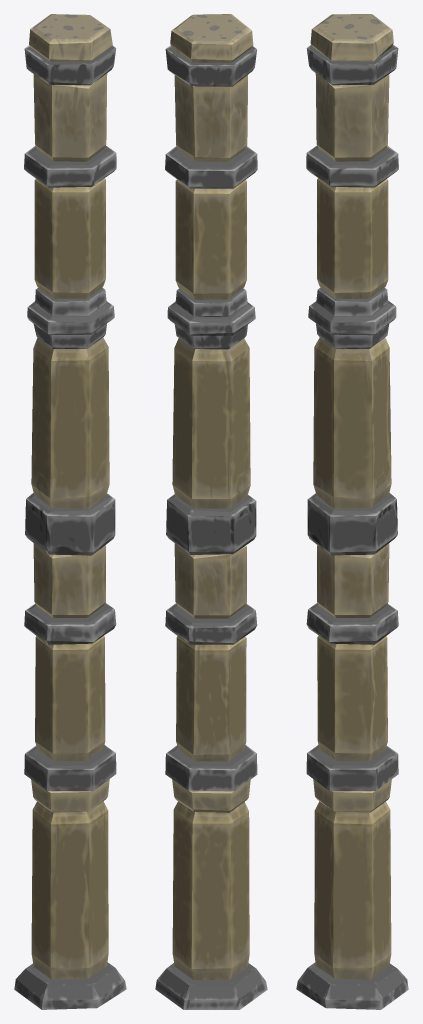
File: Rock_Stylised.fbx
3 renders of one model, left to right at view 1: azimuth 30°, elevation 25°; view 2: azimuth 150°, elevation 25°; view 3: azimuth 330°, elevation 25°, orthographic.
Parts seen in each view (by area): view 1: Pierre_LP_Tex; view 2: Pierre_LP_Tex; view 3: Pierre_LP_Tex.
Part boxes in pixels (x1,y1,x2,y2): Pierre_LP_Tex: (14,14,126,1009); Pierre_LP_Tex: (155,14,267,1009); Pierre_LP_Tex: (296,14,408,1009).
Size of the model in its own units: 262 by 2843 by 296.
